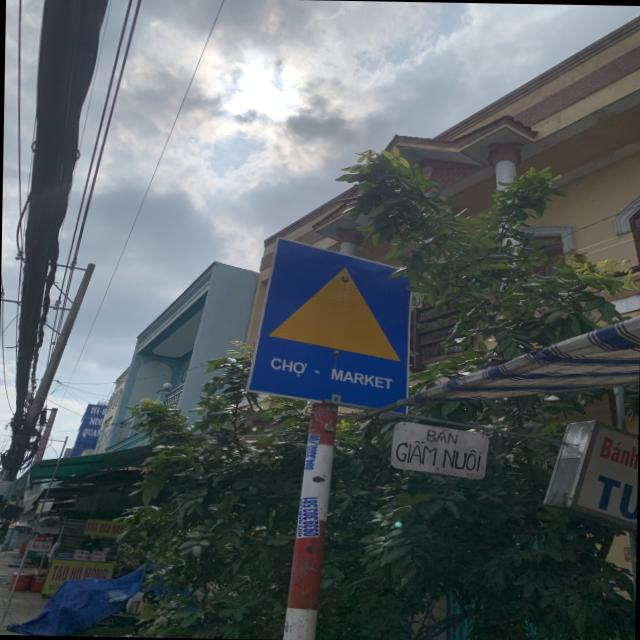Cho_Quay_Xe: (241, 237, 414, 411)
